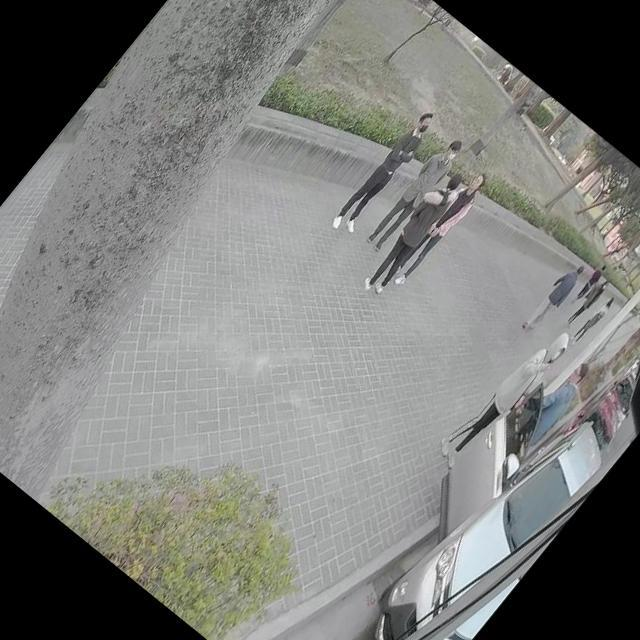person: (436, 312, 577, 473), (379, 166, 494, 300), (328, 105, 442, 238), (359, 164, 473, 296), (364, 130, 468, 250), (516, 355, 600, 447), (519, 253, 592, 336), (565, 275, 612, 329), (570, 292, 616, 346), (568, 256, 612, 306)
